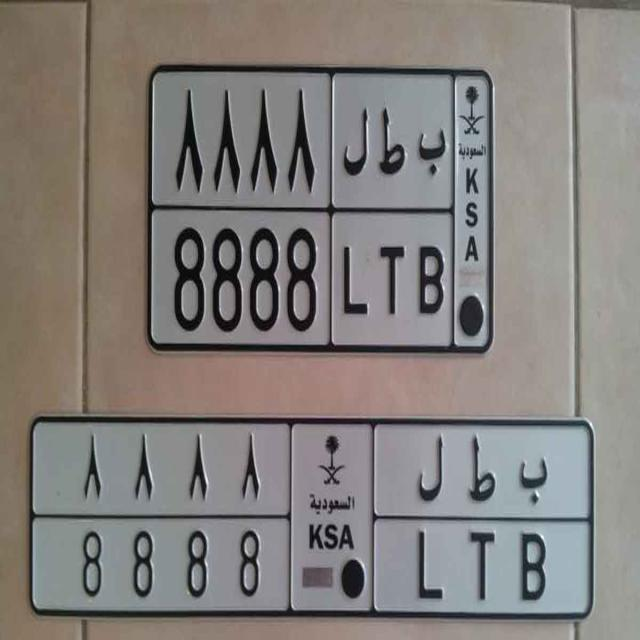license_plate: (33, 513, 597, 615), (148, 204, 458, 354)
